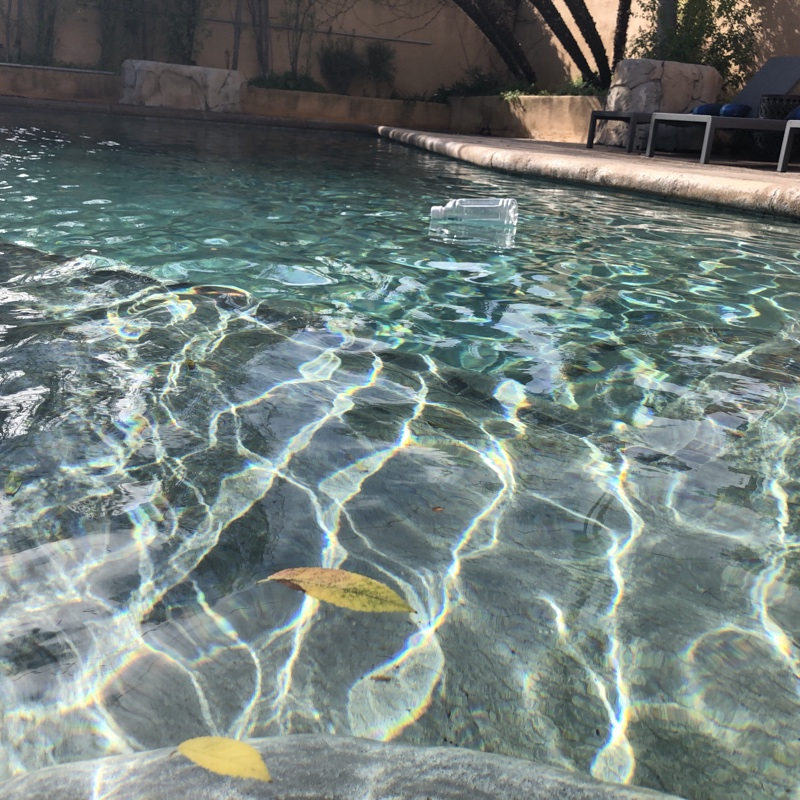Plastic Bottle: (425, 192, 523, 238)
